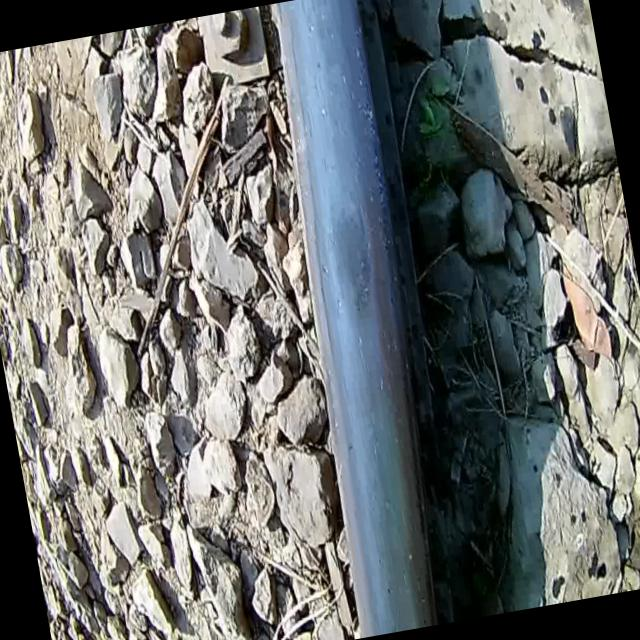Squats: (286, 183, 420, 342)
